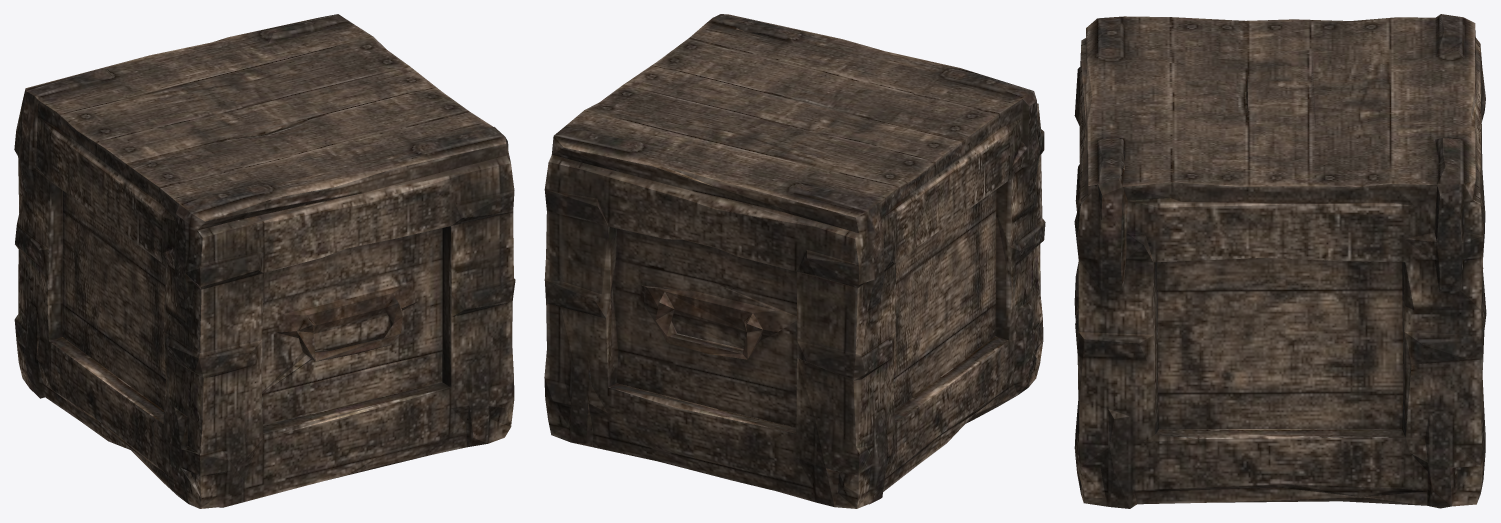
The model's file is crate.glb.
3 views of the same model, side by side, from view 1: azimuth 30°, elevation 25°; view 2: azimuth 150°, elevation 25°; view 3: azimuth 270°, elevation 25° (orthographic). The views are drawn at different scales.
Visible parts, largest first — view 1: lo; view 2: lo; view 3: lo.
Part boxes in pixels (left/top/right/bottom): lo: left=14, top=14, right=515, bottom=508; lo: left=544, top=14, right=1045, bottom=508; lo: left=1074, top=14, right=1486, bottom=508.
Size of the model in its own units: 0.9953 by 0.8871 by 0.9926.
Materials: 1 (1 with a texture image).
